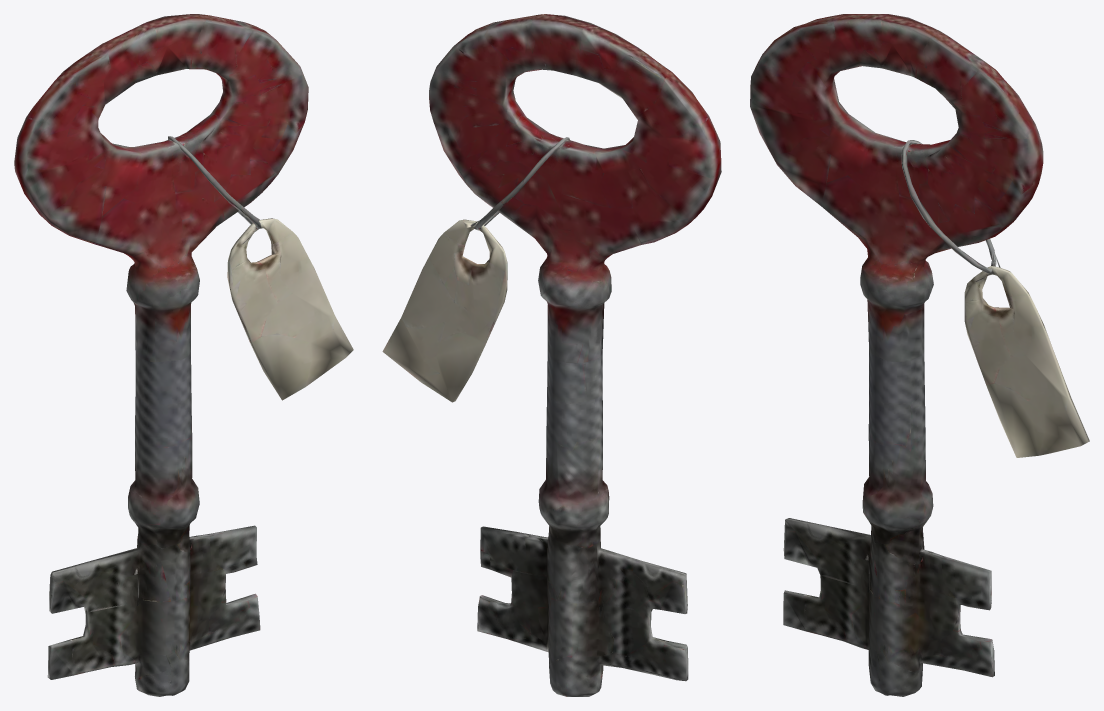
File: redkey.glb
3 renders of one model, left to right at view 1: azimuth 30°, elevation 25°; view 2: azimuth 150°, elevation 25°; view 3: azimuth 330°, elevation 25°, orthographic.
Bounding box in the file's own units: 0.5263 × 1 × 0.0999.
Materials: 1 (1 with a texture image).
